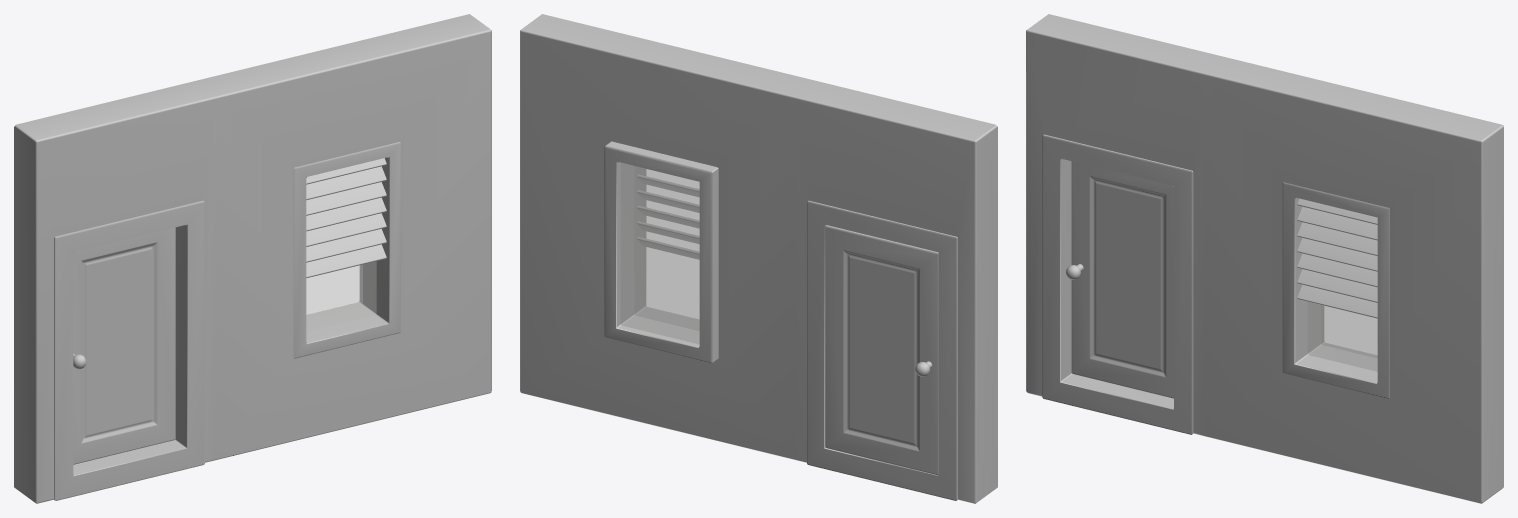
File: Wall_62.fbx
The picture shows the model from 3 angles, left to right: view 1: azimuth 30°, elevation 25°; view 2: azimuth 150°, elevation 25°; view 3: azimuth 330°, elevation 25°; orthographic projection.
Parts seen in each view (by area): view 1: Wall_62; view 2: Wall_62; view 3: Wall_62.
Part boxes in pixels (x1=…): Wall_62: x1=14, y1=14, x2=491, y2=503; Wall_62: x1=520, y1=14, x2=997, y2=503; Wall_62: x1=1026, y1=14, x2=1503, y2=503.
Size of the model in its own units: 460 by 350 by 61.81.
